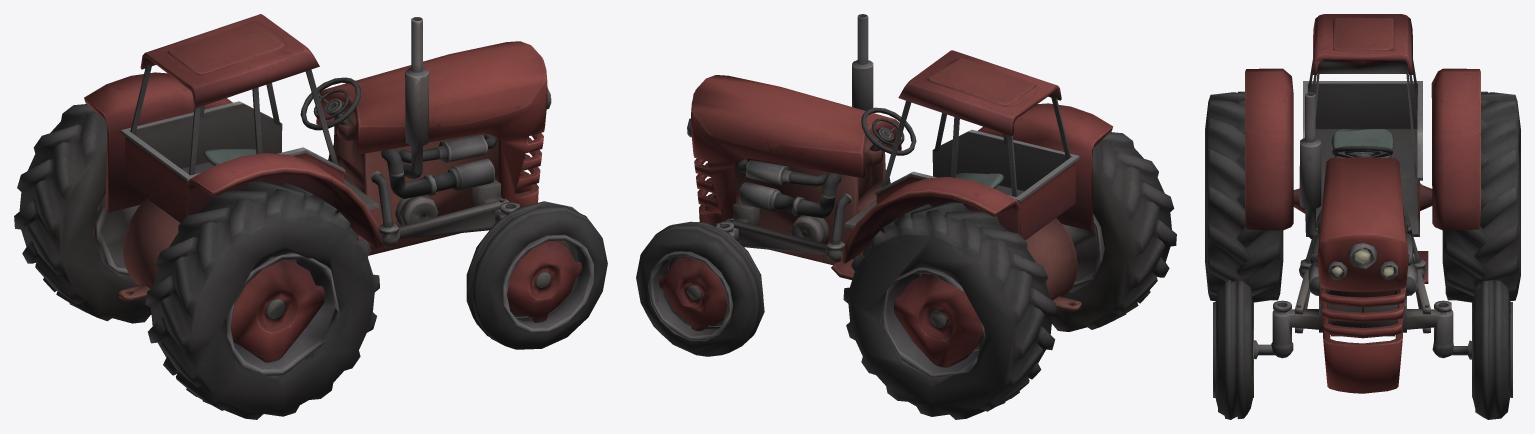
File: tractor.glb
3 views of the same model, side by side, from view 1: azimuth 30°, elevation 25°; view 2: azimuth 150°, elevation 25°; view 3: azimuth 270°, elevation 25° (orthographic). The views are drawn at different scales.
Parts seen in each view (by area): view 1: backTire, hull, frontTire, tireFlap, sitBox, tubeStuff, roof, midBit, pipe, roofbeams, wheel, seat; view 2: backTire, hull, frontTire, tireFlap, sitBox, tubeStuff, midBit, roof, roofbeams, pipe, wheel; view 3: backTire, hull, tireFlap, frontTire, sitBox, tubeStuff, roof, pipe, seat, midBit, roofbeams, wheel.
Boxes of the visible parts, box(x1,y1,x2,y2) form: backTire: box(14, 103, 379, 419); hull: box(316, 41, 551, 206); frontTire: box(466, 201, 607, 349); tireFlap: box(84, 72, 383, 248); sitBox: box(120, 101, 379, 222); tubeStuff: box(328, 134, 519, 246); roof: box(140, 14, 319, 108); midBit: box(119, 104, 498, 301); pipe: box(403, 17, 428, 179); roofbeams: box(130, 64, 338, 175); wheel: box(300, 77, 360, 130); seat: box(204, 148, 262, 165); backTire: box(843, 131, 1176, 419); hull: box(687, 75, 901, 226); frontTire: box(636, 221, 764, 356); tireFlap: box(840, 103, 1113, 263); sitBox: box(844, 129, 1079, 240); tubeStuff: box(715, 159, 890, 262); midBit: box(735, 132, 1081, 311); roof: box(898, 50, 1061, 135); roofbeams: box(881, 96, 1070, 196); pipe: box(852, 14, 873, 110); wheel: box(861, 107, 916, 155); backTire: box(1205, 91, 1520, 302); hull: box(1317, 157, 1408, 393); tireFlap: box(1245, 68, 1480, 230); frontTire: box(1213, 280, 1512, 419); sitBox: box(1303, 81, 1422, 236); tubeStuff: box(1271, 209, 1453, 358); roof: box(1313, 14, 1412, 74); pipe: box(1299, 92, 1321, 239); seat: box(1331, 128, 1393, 157); midBit: box(1293, 183, 1432, 336); roofbeams: box(1308, 60, 1417, 177); wheel: box(1332, 145, 1392, 157).
Bounding box in the file's own units: 3.4 × 2.31 × 2.31.
9 materials, 9 textured.
